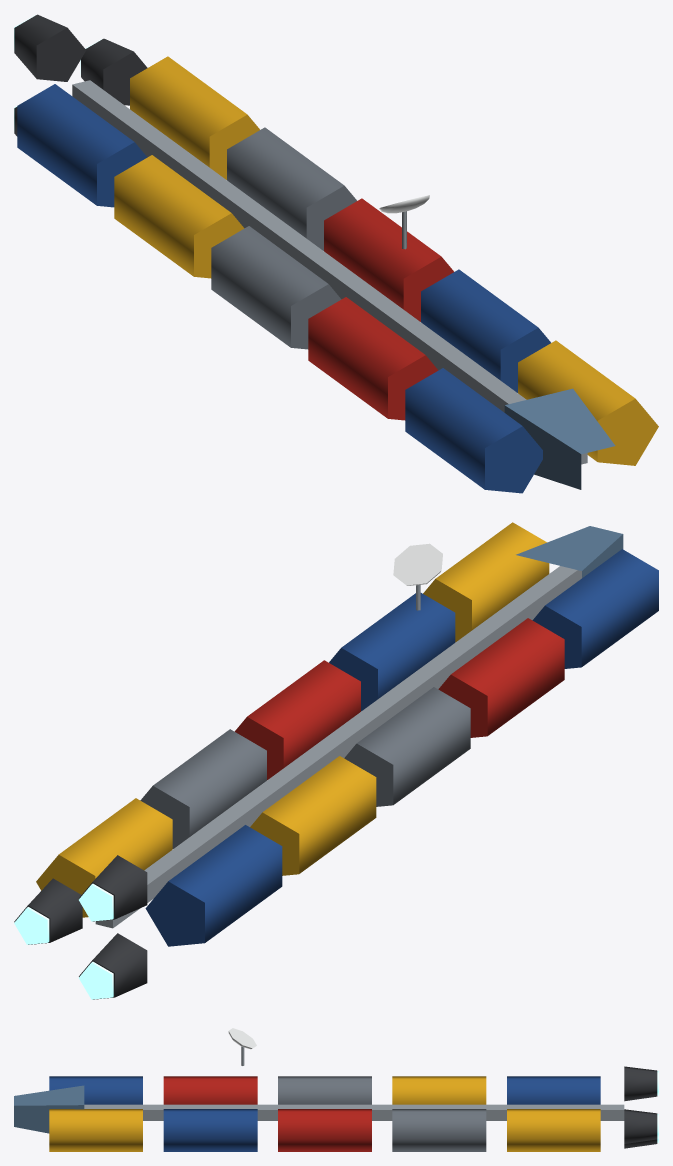
Rendered from space_ship_logistics_mk5_lod1.glb.
3 renders of one model, top to bottom at view 1: azimuth 30°, elevation 25°; view 2: azimuth 150°, elevation 25°; view 3: azimuth 270°, elevation 25°, orthographic. The views are drawn at different scales.
Parts seen in each view (by area): view 1: body, pod_4_0, pod_0_0, pod_1_0, pod_2_0, pod_3_0, pod_1_1, pod_0_1, pod_3_1, pod_2_1, pod_4_1, engine_1 (+1 smaller); view 2: body, pod_0_0, pod_1_0, pod_2_0, pod_4_0, pod_3_0, pod_1_1, pod_2_1, pod_3_1, pod_4_1, pod_0_1, engine_1 (+3 smaller); view 3: body, pod_1_1, pod_3_1, pod_0_1, pod_2_1, pod_4_1, pod_1_0, pod_3_0, pod_0_0, pod_2_0, pod_4_0, engine_0 (+2 smaller).
Part boxes in pixels (x1,y1,x2,y2): body: [72, 80, 615, 489]; pod_4_0: [405, 368, 542, 493]; pod_0_0: [17, 84, 147, 207]; pod_1_0: [114, 155, 244, 278]; pod_2_0: [211, 226, 341, 349]; pod_3_0: [308, 297, 438, 420]; pod_1_1: [227, 127, 356, 250]; pod_0_1: [130, 56, 259, 179]; pod_3_1: [421, 269, 550, 392]; pod_2_1: [324, 198, 453, 321]; pod_4_1: [518, 340, 658, 465]; engine_1: [14, 14, 86, 81]; body: [95, 526, 623, 928]; pod_0_0: [145, 825, 282, 946]; pod_1_0: [250, 756, 376, 875]; pod_2_0: [344, 687, 470, 806]; pod_4_0: [532, 549, 658, 668]; pod_3_0: [438, 618, 564, 737]; pod_1_1: [140, 729, 266, 848]; pod_2_1: [235, 660, 360, 779]; pod_3_1: [329, 593, 455, 711]; pod_4_1: [423, 522, 549, 642]; pod_0_1: [36, 798, 172, 917]; engine_1: [79, 855, 147, 921]; body: [14, 1085, 624, 1133]; pod_1_1: [392, 1109, 486, 1151]; pod_3_1: [163, 1109, 257, 1151]; pod_0_1: [507, 1109, 600, 1151]; pod_2_1: [278, 1109, 371, 1151]; pod_4_1: [49, 1109, 142, 1151]; pod_1_0: [392, 1076, 486, 1104]; pod_3_0: [163, 1076, 257, 1104]; pod_0_0: [507, 1076, 600, 1104]; pod_2_0: [278, 1076, 371, 1104]; pod_4_0: [49, 1076, 142, 1104]; engine_0: [624, 1109, 658, 1143].
Bounding box in the file's own units: 7.78 × 8.82 × 42.3.
